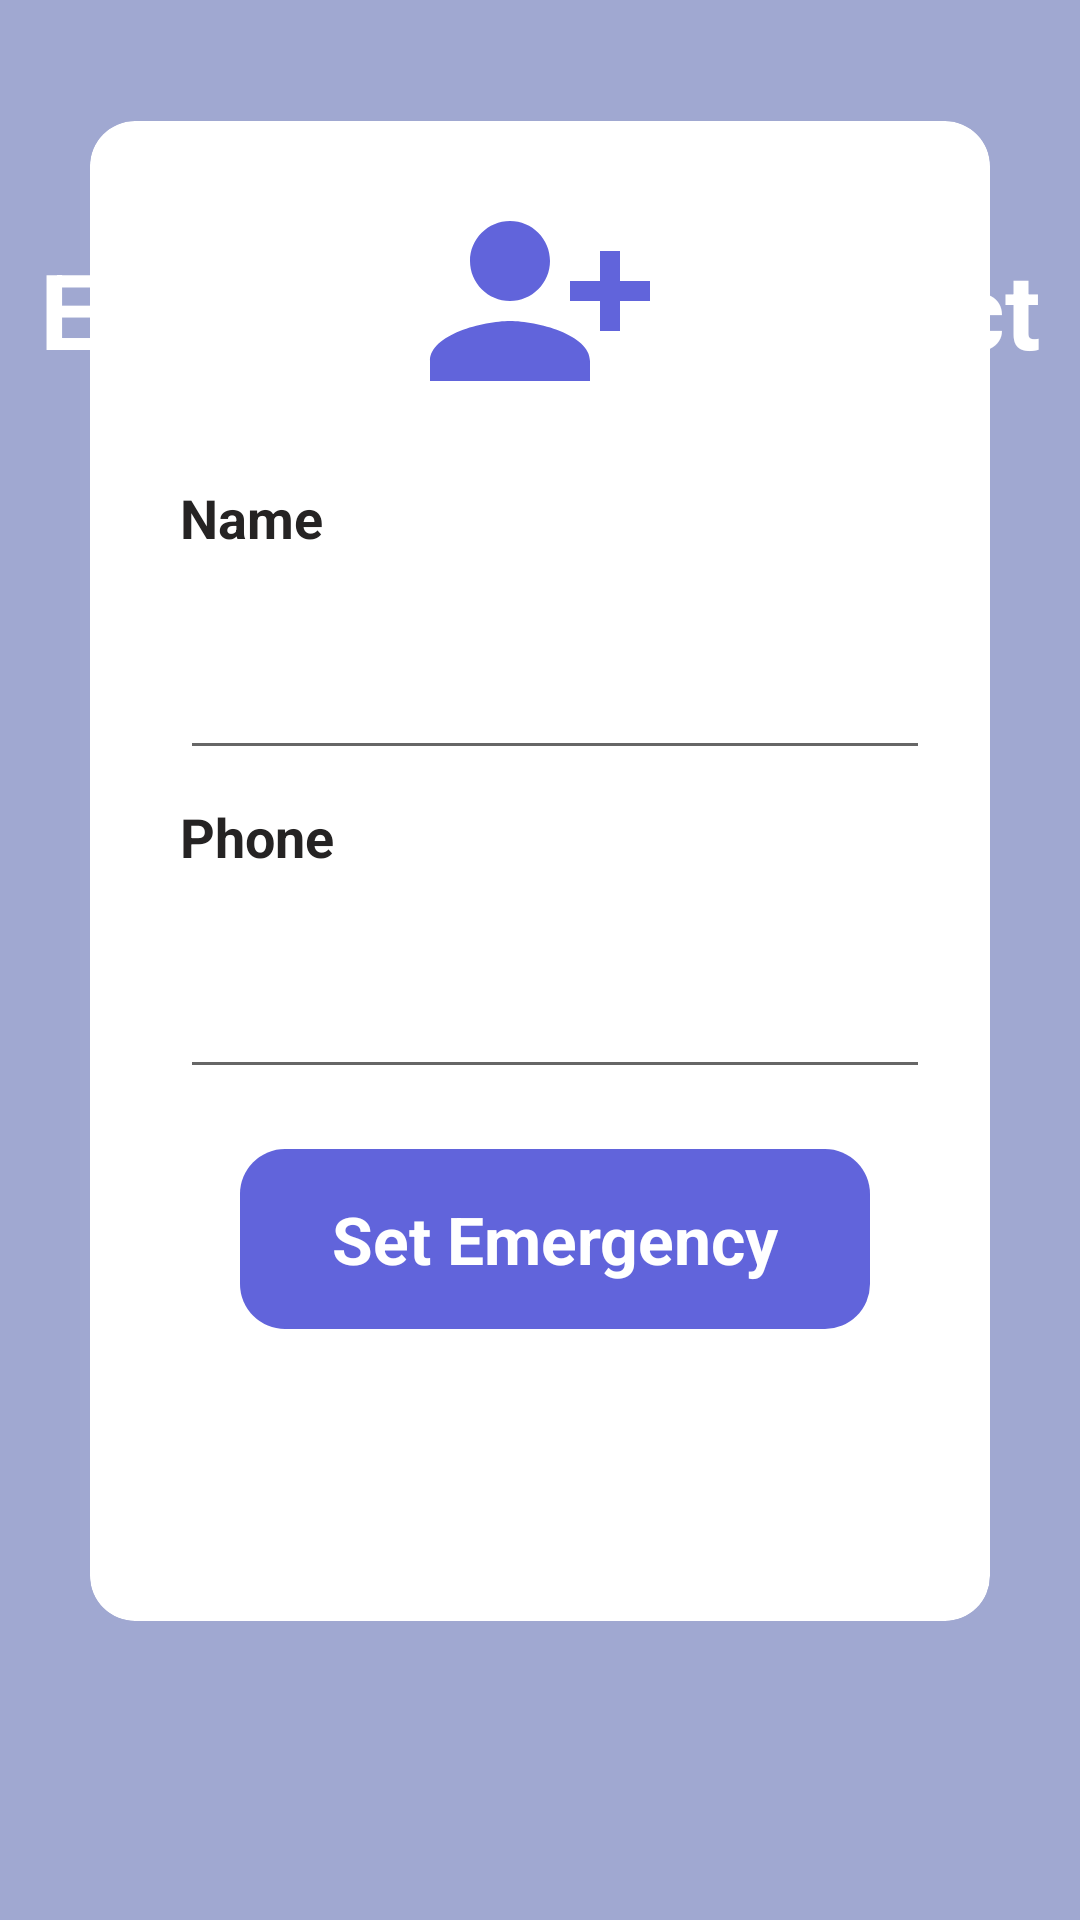

Where icons sit on this 1080×1920 app screen, as [left=x1, top=y1, right=x2, bottom=y2]:
person add: [left=430, top=221, right=650, bottom=381]
